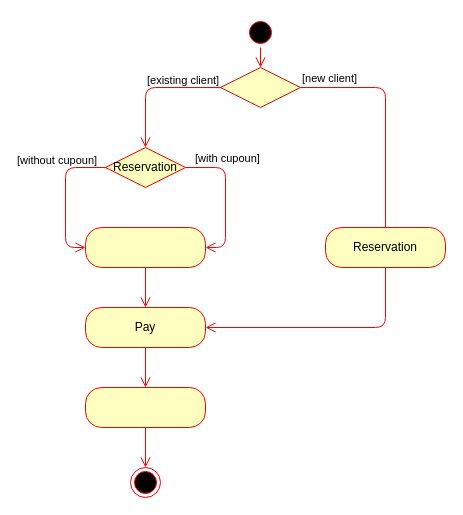
Image size: 463x515. Some labels were removed from this diagram. The shapes that lost their labels are listed below. From the top down, each one's centre as x and y in pixels, then its label:
the point at 145,247: Calculate price
the point at 145,407: Calculte cupouns
